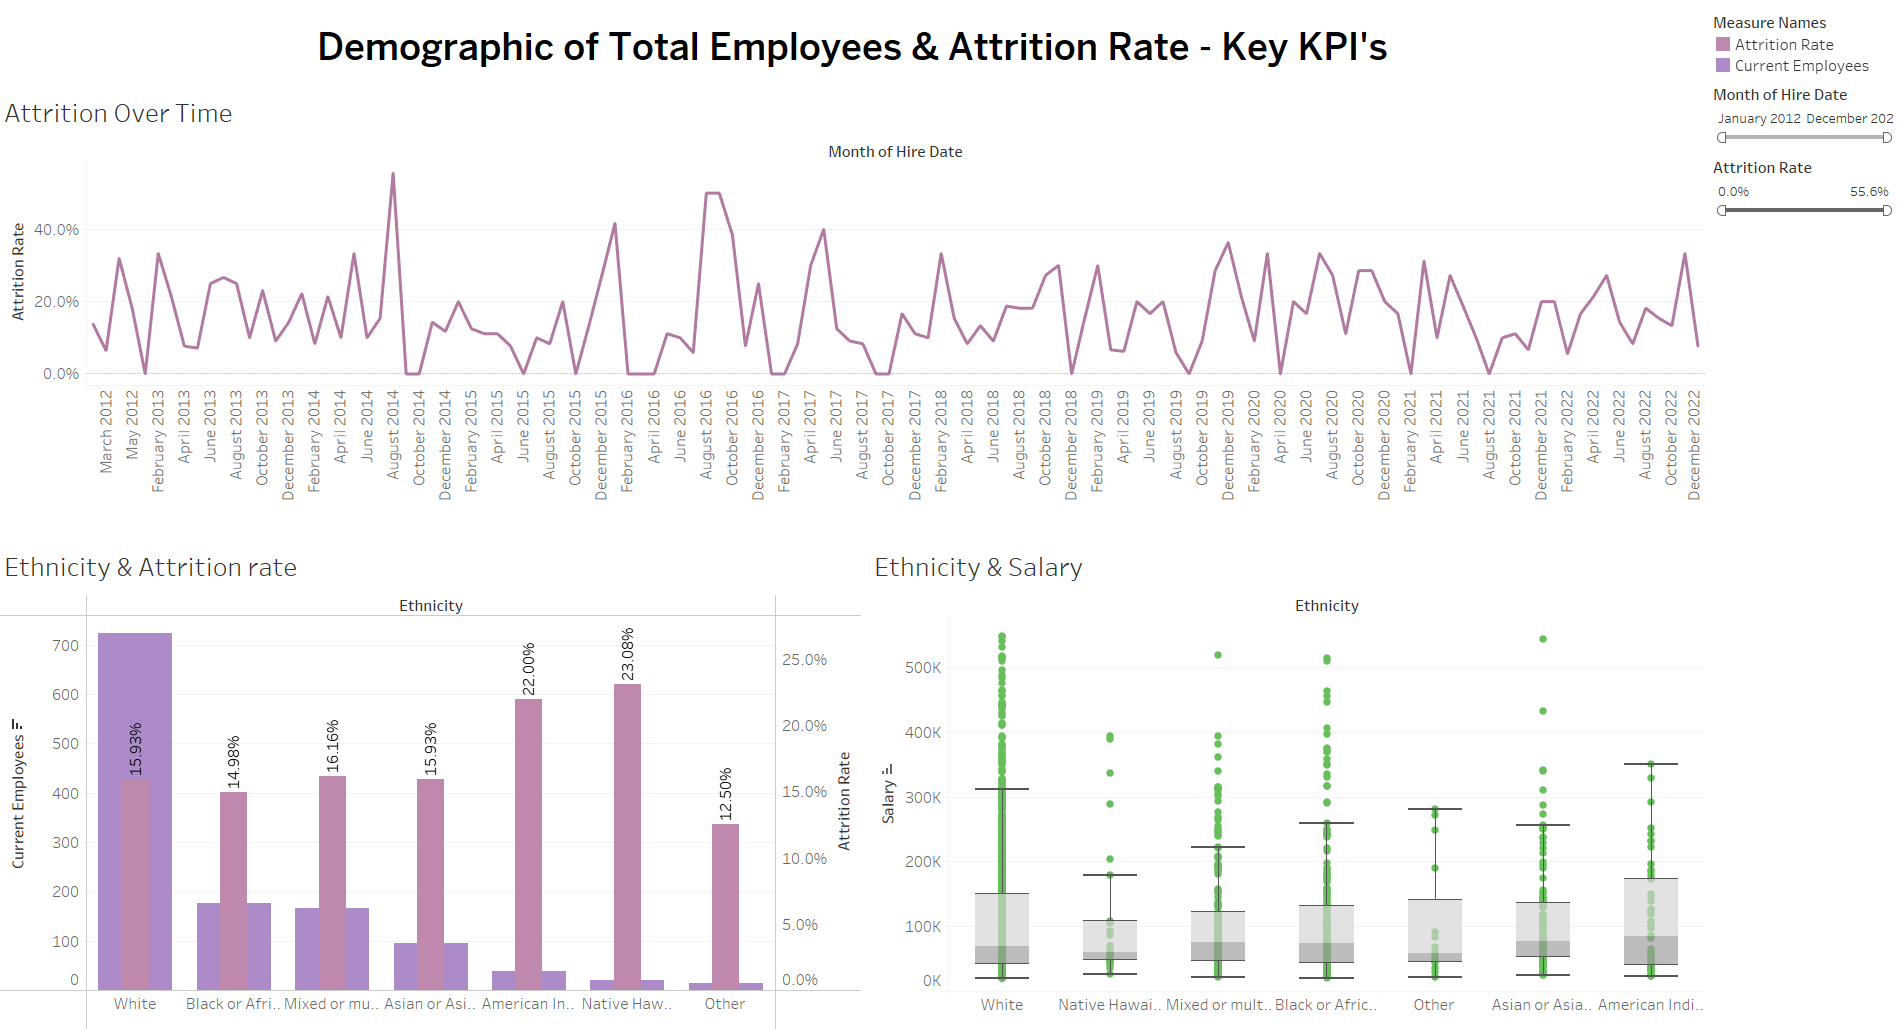

Layout of this report page (visuals, bound fields, positions):
{"tool":"tableau","page":{"name":"Dashboard_Attrition","canvas":[1000,1000],"units":"permille","ordinal":0},"visuals":[{"type":"text","box":[4.2,9.4,890.4,75.2]},{"type":"legend","title":"Ethnicity & Attrition rate","param":"[federated.0frj53509doeau1491p3512hju7g].[:Measure Names]","box":[894.6,9.4,101.2,84.6]},{"type":"worksheet","title":"Attrition Over Time","mark":"Automatic","rows":["Calculation_3725884270483316739"],"cols":["HireDate"],"box":[4.2,84.6,890.4,433.6]},{"type":"filter","title":"Attrition Over Time","param":"[federated.0frj53509doeau1491p3512hju7g].[tmn:HireDate:qk]","box":[894.6,94,101.2,85.8]},{"type":"filter","title":"Attrition Over Time","param":"[federated.0frj53509doeau1491p3512hju7g].[usr:Calculation_3725884270483316739:qk","box":[894.6,179.8,101.2,85.8]},{"type":"worksheet","title":"Ethnicity & Attrition rate","mark":"Bar","rows":["Calculation_3725884270482649090","Calculation_3725884270483316739"],"cols":["Ethnicity"],"box":[4.2,518.2,452.1,472.4]},{"type":"worksheet","title":"Ethnicity & Salary","mark":"Circle","rows":["Salary"],"cols":["Ethnicity"],"box":[456.3,518.2,438.3,472.4]}]}

Visuals, with their boxes on the dashboard's canvas, which has no fixed pixel size, in thousandths of its width and height (x1, y1, x2, y2). These are canvas units, not pixel positions in the 1901x1029 screenshot, which may show the page scaled, cropped or inside an application window:
text: box(4, 9, 895, 85)
"Ethnicity & Attrition rate" legend: box(895, 9, 996, 94)
"Attrition Over Time" worksheet: box(4, 85, 895, 518)
"Attrition Over Time" filter: box(895, 94, 996, 180)
"Attrition Over Time" filter: box(895, 180, 996, 266)
"Ethnicity & Attrition rate" worksheet (Bar marks): box(4, 518, 456, 991)
"Ethnicity & Salary" worksheet (Circle marks): box(456, 518, 895, 991)
